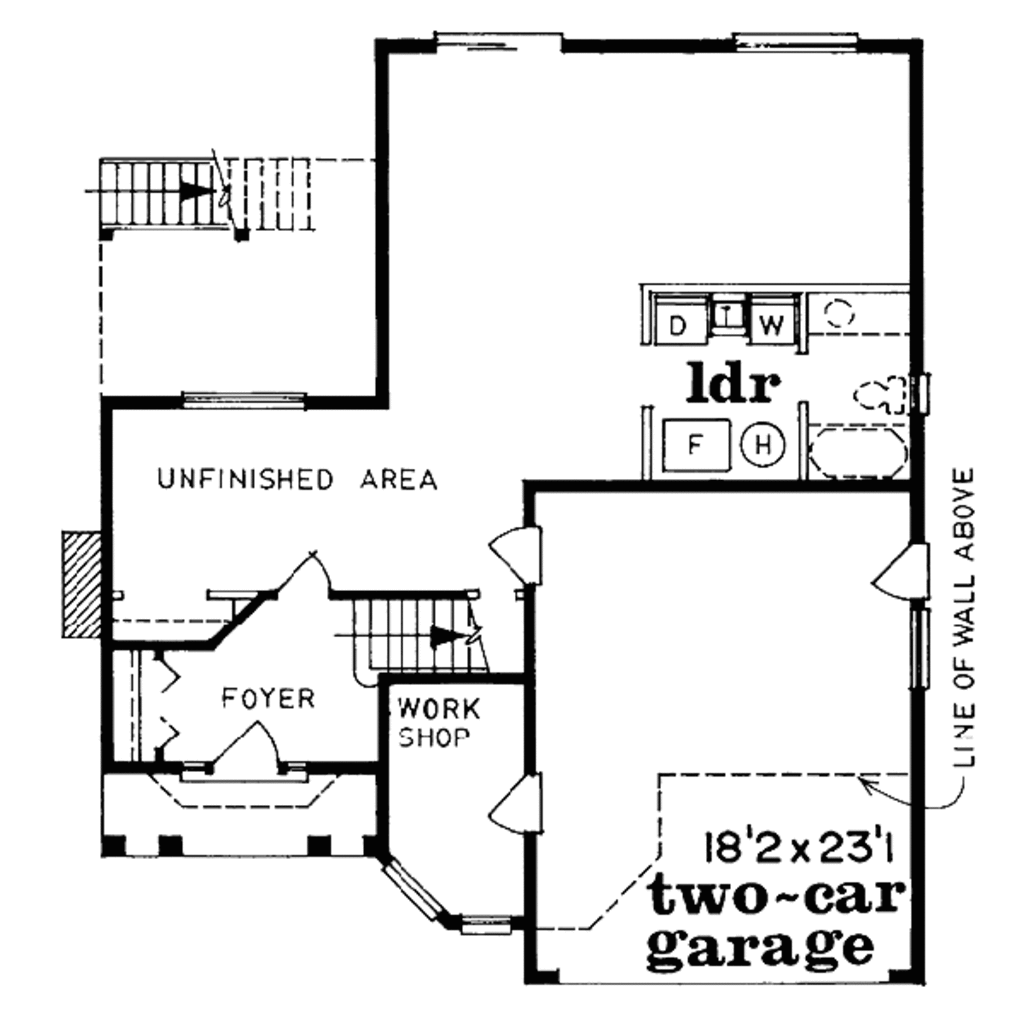door: (195, 712, 299, 786), (482, 763, 561, 845), (484, 518, 554, 591), (271, 538, 348, 600), (870, 531, 932, 600)
large_sink: (849, 370, 917, 419)
small_sink: (805, 294, 909, 342)
stairs: (85, 147, 317, 242), (343, 580, 508, 710)
tub: (809, 422, 908, 479)
window: (382, 853, 448, 930), (185, 381, 307, 421), (735, 25, 865, 61), (904, 599, 944, 693), (451, 907, 523, 940)
